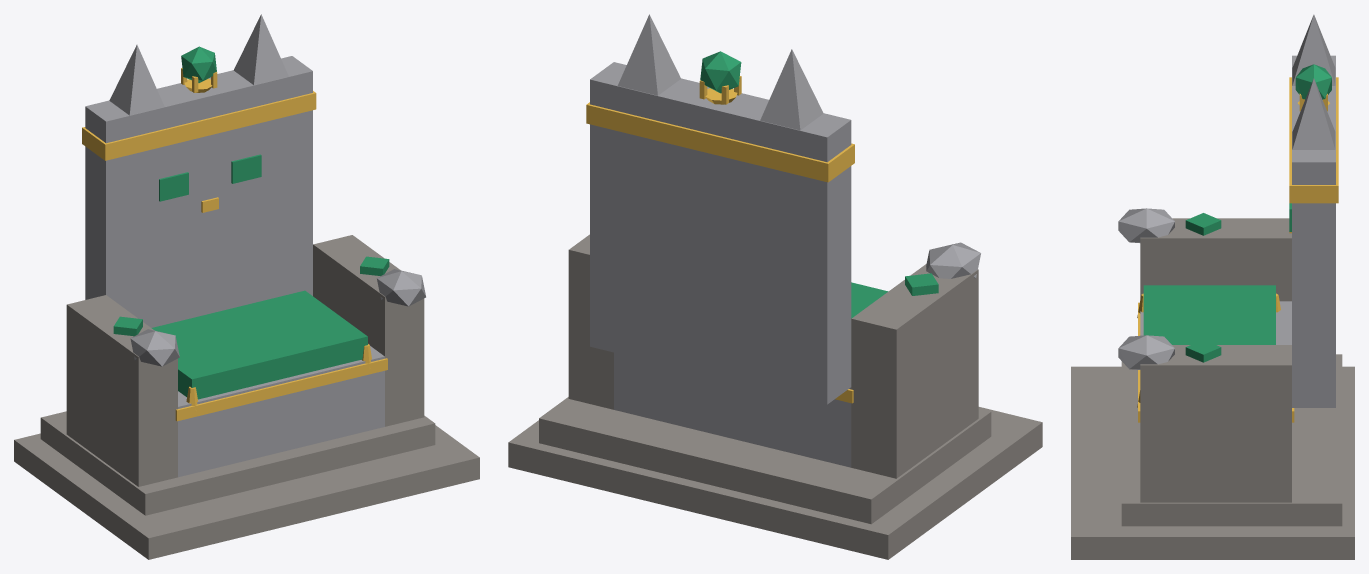
File: CatCafe_Decor_StoneThrone.glb
3 views of the same model, side by side, from view 1: azimuth 30°, elevation 25°; view 2: azimuth 150°, elevation 25°; view 3: azimuth 270°, elevation 25° (orthographic). The views are drawn at different scales.
Parts seen in each view (by area): view 1: CatCafe_Decor_StoneThrone, CatCafe_Decor_StoneThrone_Gem_Glow; view 2: CatCafe_Decor_StoneThrone, CatCafe_Decor_StoneThrone_Gem_Glow, CatCafe_Decor_StoneThrone_Gem_Bob; view 3: CatCafe_Decor_StoneThrone, CatCafe_Decor_StoneThrone_Gem_Glow.
Part boxes in pixels (bbox=[...]): CatCafe_Decor_StoneThrone: bbox=[14, 14, 479, 559]; CatCafe_Decor_StoneThrone_Gem_Glow: bbox=[181, 46, 216, 82]; CatCafe_Decor_StoneThrone: bbox=[508, 14, 1042, 559]; CatCafe_Decor_StoneThrone_Gem_Glow: bbox=[700, 51, 741, 93]; CatCafe_Decor_StoneThrone_Gem_Bob: bbox=[699, 76, 741, 104]; CatCafe_Decor_StoneThrone: bbox=[1071, 14, 1354, 559]; CatCafe_Decor_StoneThrone_Gem_Glow: bbox=[1295, 64, 1331, 99].
Bounding box in the file's own units: 3.2 × 3.75 × 2.25.
1 material, 1 textured.
